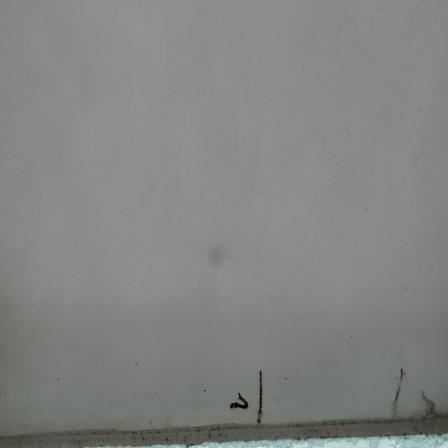Jentik-Nyamuk: (254, 367, 267, 427), (226, 390, 252, 413)
